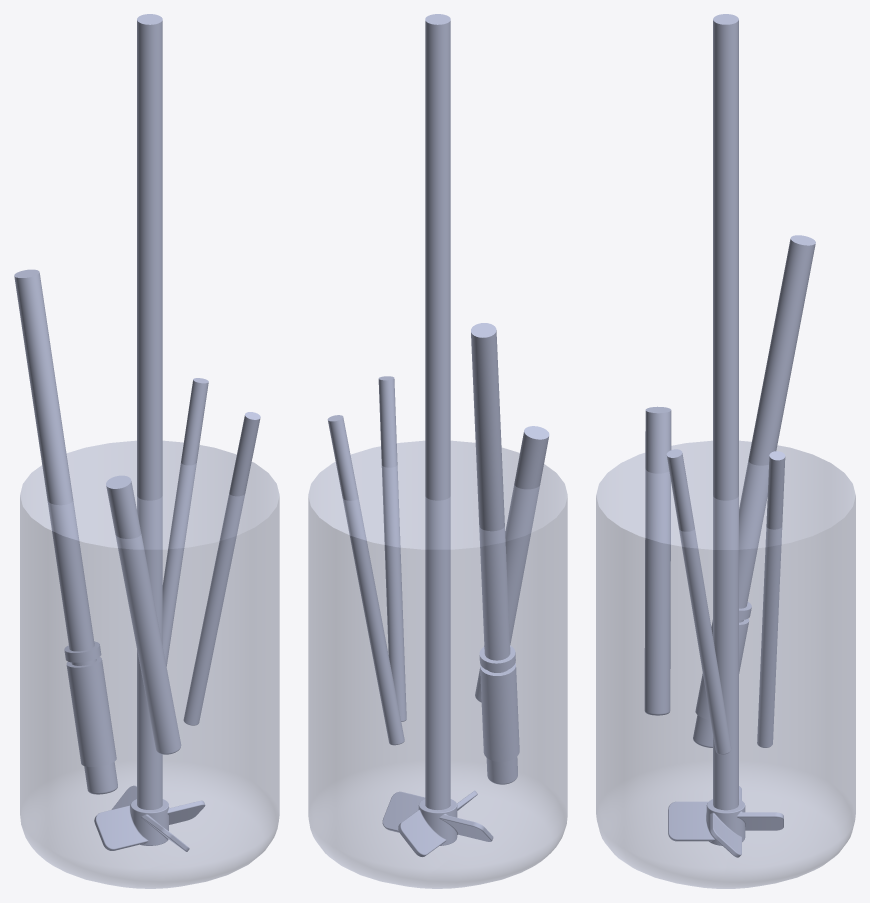
Rendered from TSHO_Optimax_495_3d.glb.
The picture shows the model from 3 angles, left to right: view 1: azimuth 30°, elevation 25°; view 2: azimuth 150°, elevation 25°; view 3: azimuth 270°, elevation 25°; orthographic projection.
Parts seen in each view (by area): view 1: Tank, Impeller Assembly, EasySamp w EasyFrit, EasyViwer, FBRM, Thermo; view 2: Tank, Impeller Assembly, EasySamp w EasyFrit, Thermo, FBRM, EasyViwer; view 3: Tank, Impeller Assembly, EasySamp w EasyFrit, EasyViwer, FBRM, Thermo.
Boxes of the visible parts, x1=… form: Tank: x1=20, y1=440, x2=279, y2=888; Impeller Assembly: x1=94, y1=14, x2=205, y2=851; EasySamp w EasyFrit: x1=14, y1=269, x2=117, y2=794; EasyViwer: x1=106, y1=475, x2=181, y2=754; FBRM: x1=183, y1=412, x2=260, y2=725; Thermo: x1=162, y1=378, x2=208, y2=666; Tank: x1=308, y1=440, x2=567, y2=888; Impeller Assembly: x1=382, y1=14, x2=493, y2=857; EasySamp w EasyFrit: x1=471, y1=323, x2=519, y2=784; Thermo: x1=327, y1=415, x2=404, y2=745; FBRM: x1=378, y1=376, x2=406, y2=721; EasyViwer: x1=475, y1=426, x2=549, y2=702; Tank: x1=596, y1=440, x2=855, y2=888; Impeller Assembly: x1=668, y1=14, x2=783, y2=857; EasySamp w EasyFrit: x1=693, y1=235, x2=815, y2=747; EasyViwer: x1=644, y1=406, x2=671, y2=715; FBRM: x1=666, y1=449, x2=731, y2=754; Thermo: x1=757, y1=451, x2=785, y2=747.
Size of the model in its own units: 0.1003 by 0.364 by 0.1009.
